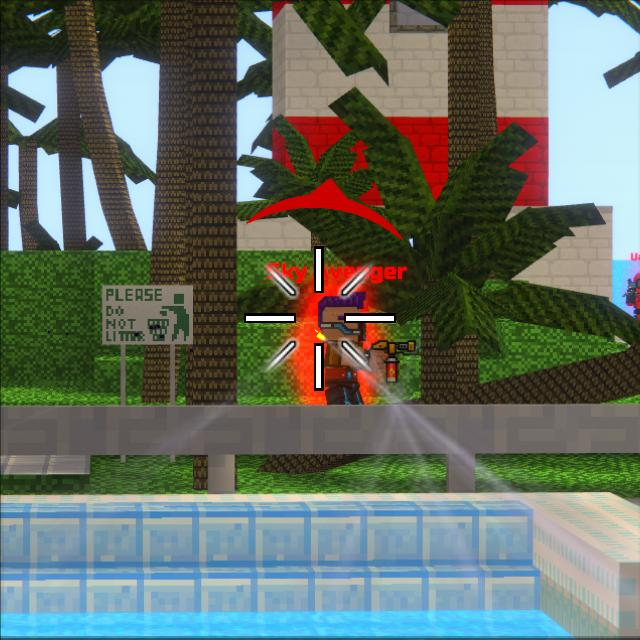Enemy: (315, 298, 380, 406), (627, 270, 640, 317)
